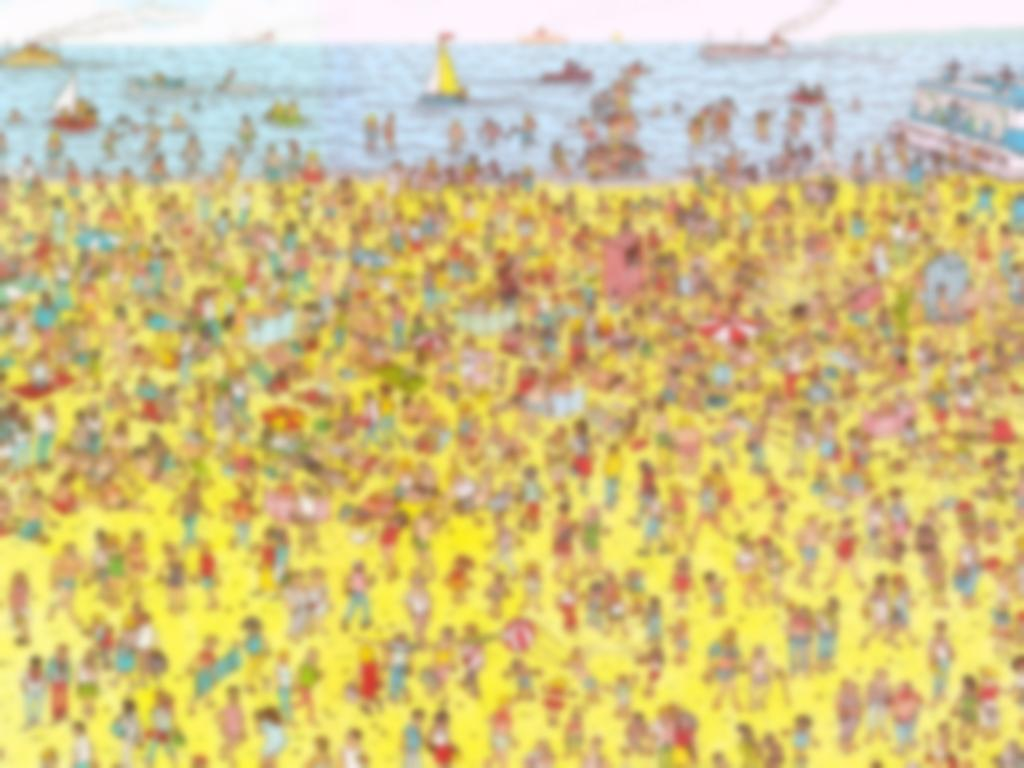waldos: (491, 262, 525, 310)
